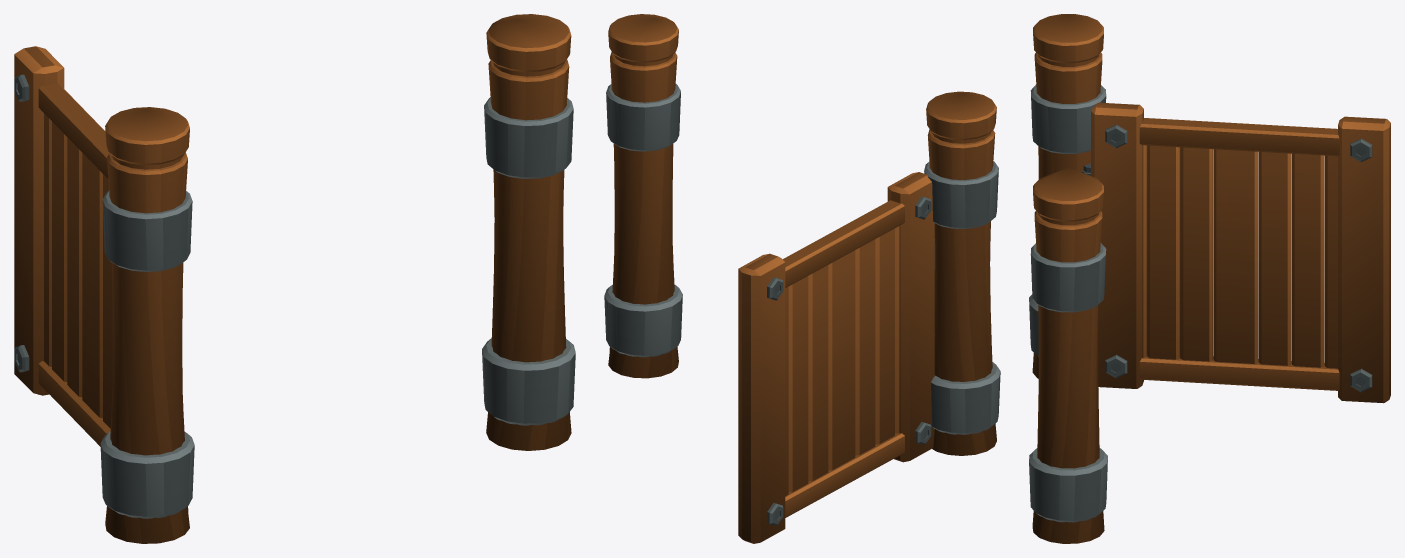
The model's file is Door-2-2.fbx.
The picture shows the model from 3 angles, left to right: view 1: azimuth 30°, elevation 25°; view 2: azimuth 150°, elevation 25°; view 3: azimuth 270°, elevation 25°; orthographic projection. The views are drawn at different scales.
Parts seen in each view (by area): view 1: Door-2-2; view 2: Door-2-2; view 3: Door-2-2.
Part boxes in pixels (x1=…): Door-2-2: x1=14, y1=14, x2=575, y2=543; Door-2-2: x1=604, y1=14, x2=1000, y2=543; Door-2-2: x1=1029, y1=14, x2=1390, y2=543.
Size of the model in its own units: 229 by 199 by 183.
